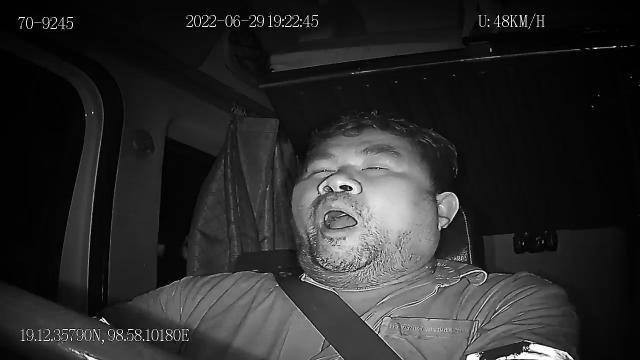SafeDriving: (356, 152, 402, 179)
Seatbelt: (272, 264, 406, 360)
